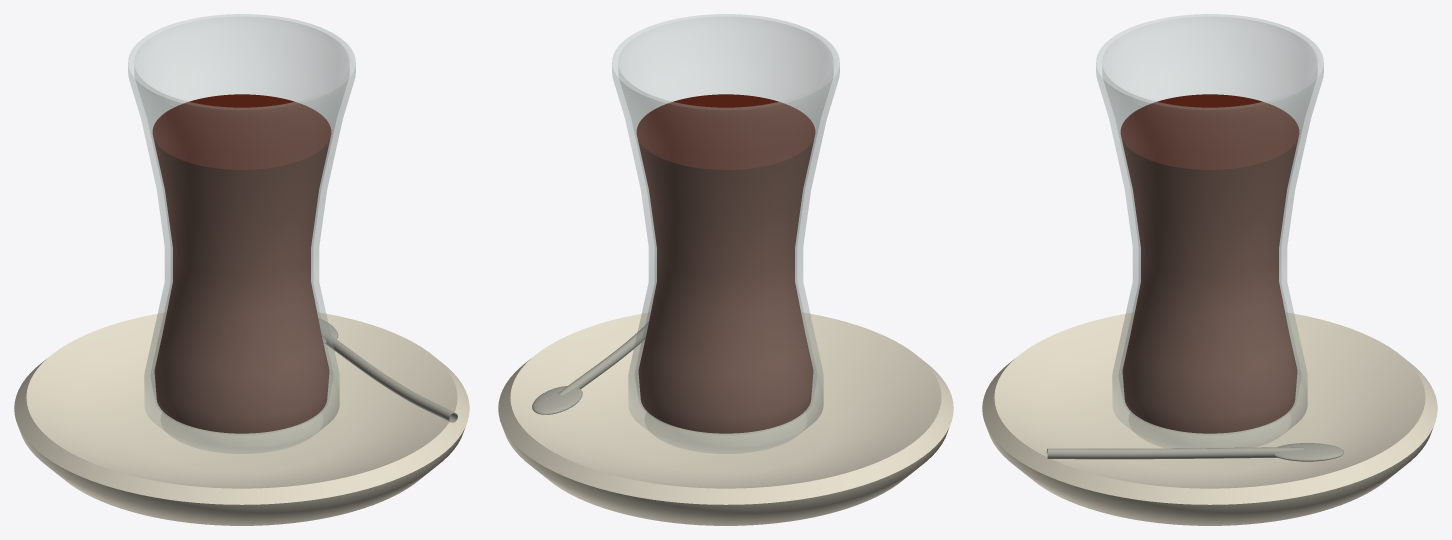
The model's file is calm_tea_glass.glb.
3 renders of one model, left to right at view 1: azimuth 30°, elevation 25°; view 2: azimuth 150°, elevation 25°; view 3: azimuth 270°, elevation 25°, orthographic.
Parts seen in each view (by area): view 1: Thin tulip glass.012, Porcelain tea saucer.012, Amber tea.012, Tea spoon.012; view 2: Thin tulip glass.012, Porcelain tea saucer.012, Amber tea.012, Tea spoon.012, Spoon bowl.012; view 3: Thin tulip glass.012, Porcelain tea saucer.012, Amber tea.012, Tea spoon.012, Spoon bowl.012.
Part boxes in pixels (<box>): Thin tulip glass.012: <box>128,14,355,453</box>; Porcelain tea saucer.012: <box>14,312,469,525</box>; Amber tea.012: <box>152,94,331,433</box>; Tea spoon.012: <box>320,328,457,422</box>; Thin tulip glass.012: <box>612,14,839,453</box>; Porcelain tea saucer.012: <box>498,312,953,525</box>; Amber tea.012: <box>636,94,815,433</box>; Tea spoon.012: <box>558,322,648,395</box>; Spoon bowl.012: <box>532,386,582,414</box>; Thin tulip glass.012: <box>1096,14,1323,448</box>; Porcelain tea saucer.012: <box>982,312,1437,525</box>; Amber tea.012: <box>1120,94,1299,433</box>; Tea spoon.012: <box>1046,447,1303,459</box>; Spoon bowl.012: <box>1273,443,1343,461</box>.
Bounding box in the file's own units: 0.112 × 0.107 × 0.112.
